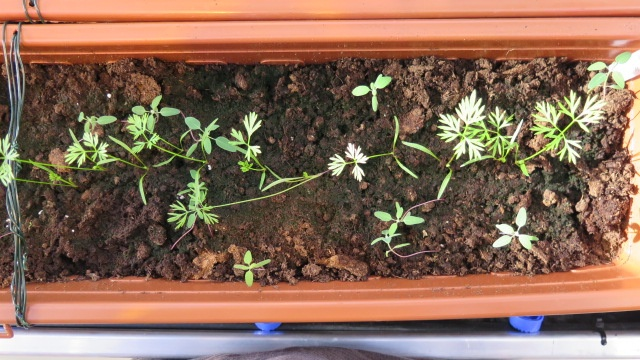crop: (519, 92, 608, 174), (434, 91, 525, 164), (1, 130, 78, 193), (171, 174, 224, 230), (65, 129, 115, 170)
weed: (488, 203, 544, 252), (224, 246, 275, 290)
